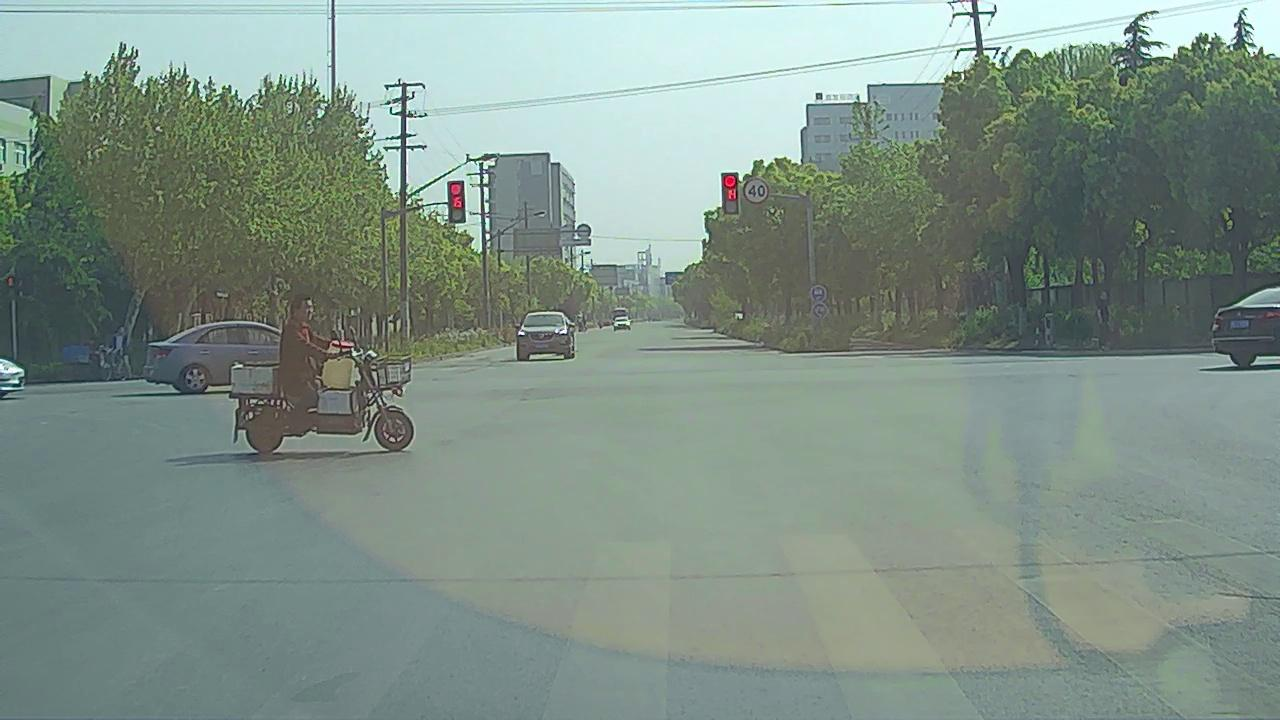traffic_light: (450, 181, 465, 223), (723, 173, 738, 214)
